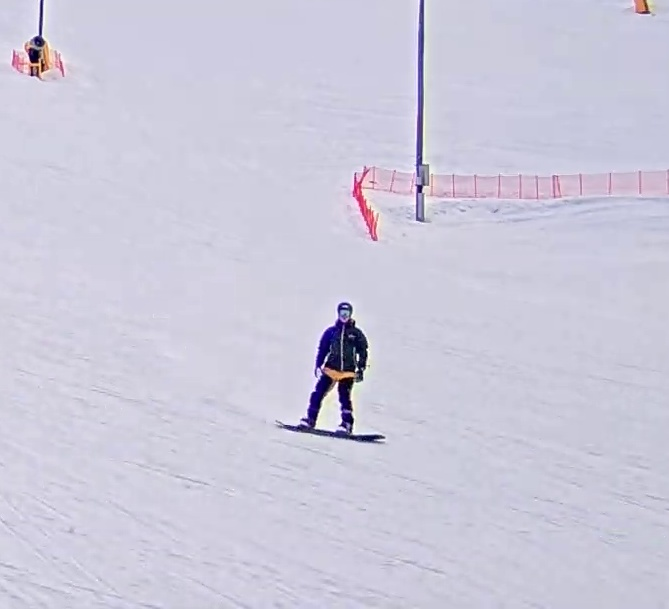snowboarder: (274, 299, 388, 443)
